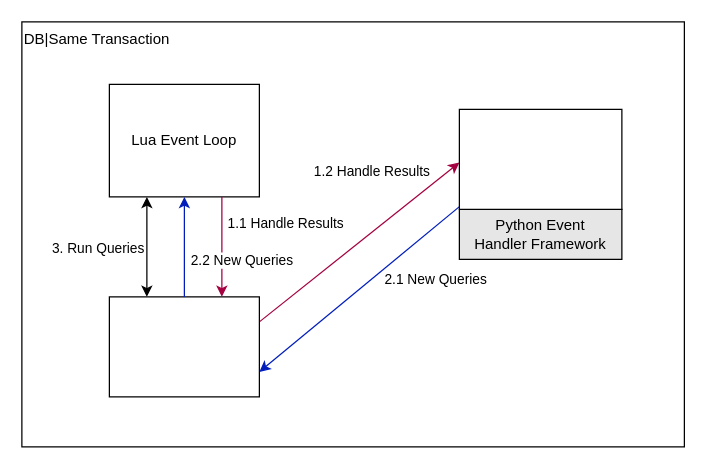
This 706x469 diagram has some shape labels left out. The centre of each missing label's shape, as x and y in pixels:
"DB Query Interface" belongs at (183,346).
"Event Handler" belongs at (540,158).
